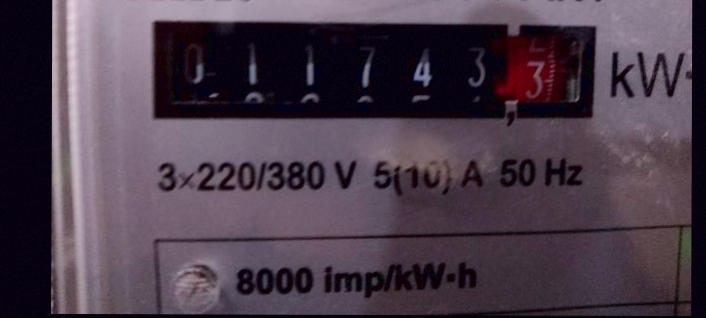0: (178, 38, 207, 85)
1: (298, 39, 319, 88), (243, 39, 260, 87)
3: (462, 42, 490, 89), (522, 56, 546, 100)
4: (408, 41, 436, 89)
7: (354, 42, 378, 90)
screen: (136, 10, 602, 129)
